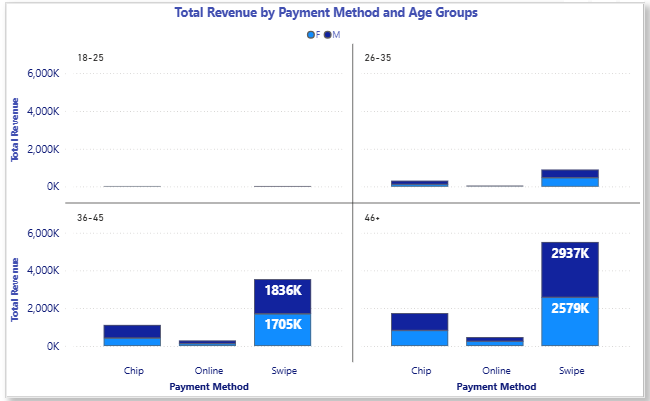

The page's visual inventory and layout, read from the dashboard file:
{"tool":"powerbi","page":{"name":"Type of Payment method","canvas":[1280,720],"ordinal":3},"visuals":[{"type":"columnChart","title":"Total Revenue by Payment Method and Age Groups","fields":{"Category":["CreditCard.Use Chip"],"Y":["CreditCard.Total_Revenue"],"Series":["customer.Gender"],"Rows":["customer.Age_Group"]},"box":[149.4,61.7,953.1,588.9],"z":0},{"type":"actionButton","box":[0,0,100,40],"z":1000}]}

Visuals, with their boxes on the page's 1280x720 design canvas (x1, y1, x2, y2). These are canvas units, not pixel positions in the 650x401 screenshot, which may show the page scaled, cropped or inside an application window:
"Total Revenue by Payment Method and Age Groups" columnChart: 149,62,1102,651
actionButton: 0,0,100,40
